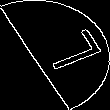L_SW: (16, 30, 94, 80)
